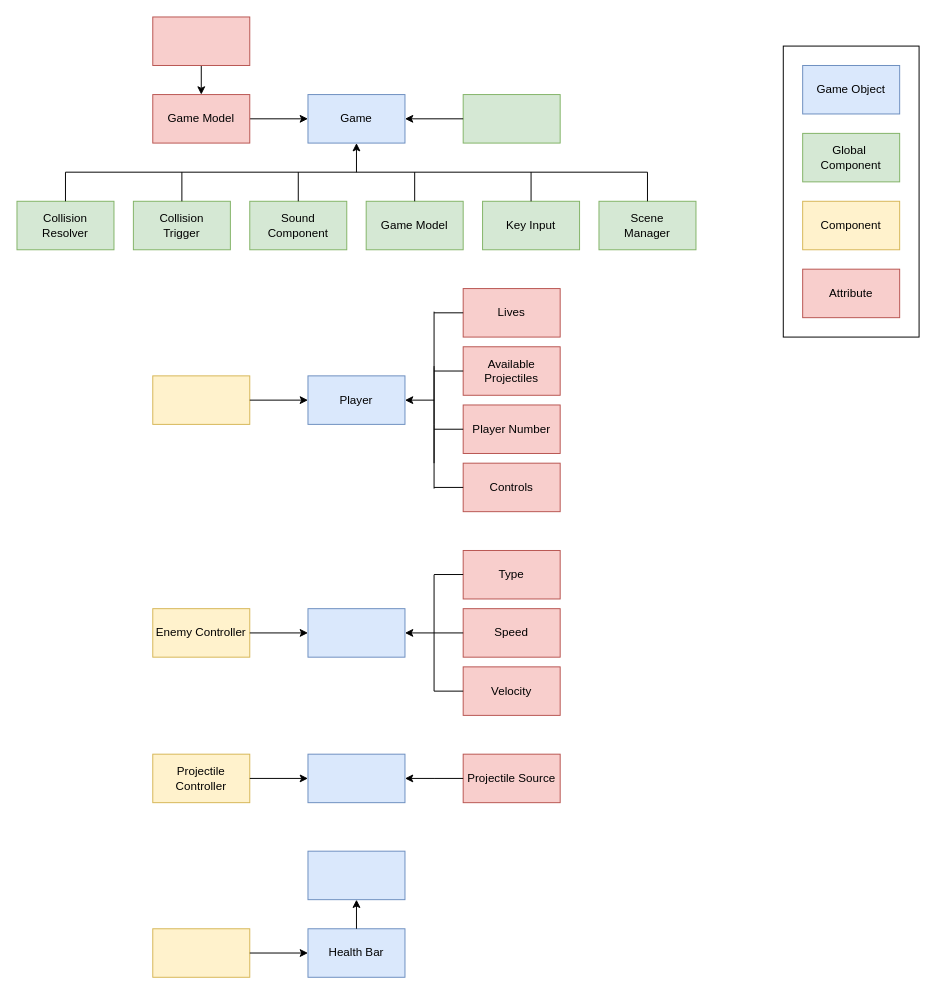
This 936x994 diagram has some shape labels left out. Here are the shapes that lost their labels. From the top down, the box of each, then its label:
(152, 16, 250, 65): Level
(462, 94, 560, 143): Main Menu / Game Won etc.
(152, 375, 250, 424): Player Controller
(307, 608, 405, 657): Enemy
(307, 753, 405, 803): Projectile
(307, 850, 405, 900): Status Bar
(152, 928, 250, 977): Health Bar Controller
